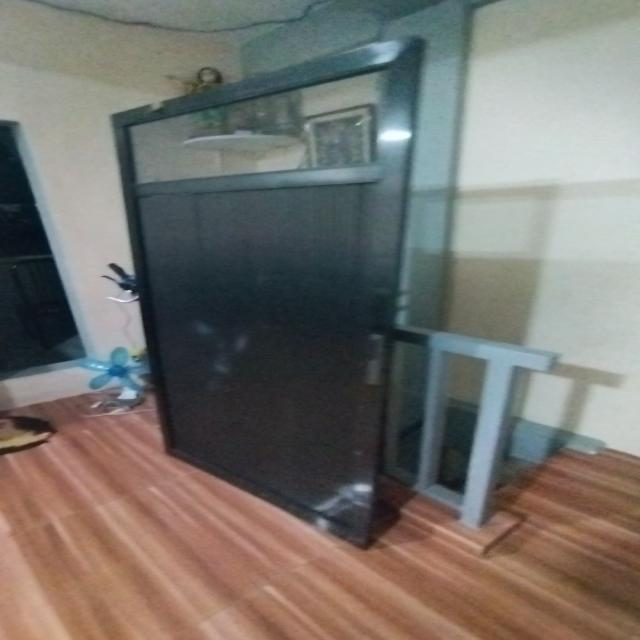door: (97, 36, 400, 546)
